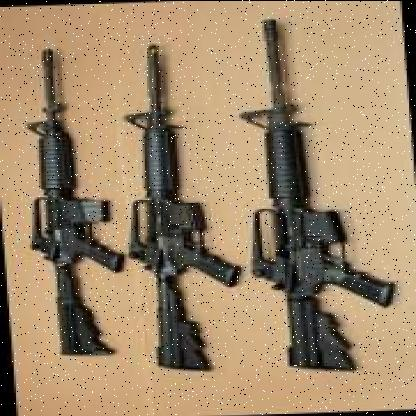rifle: (232, 0, 393, 372), (112, 37, 236, 378), (16, 46, 131, 364)
